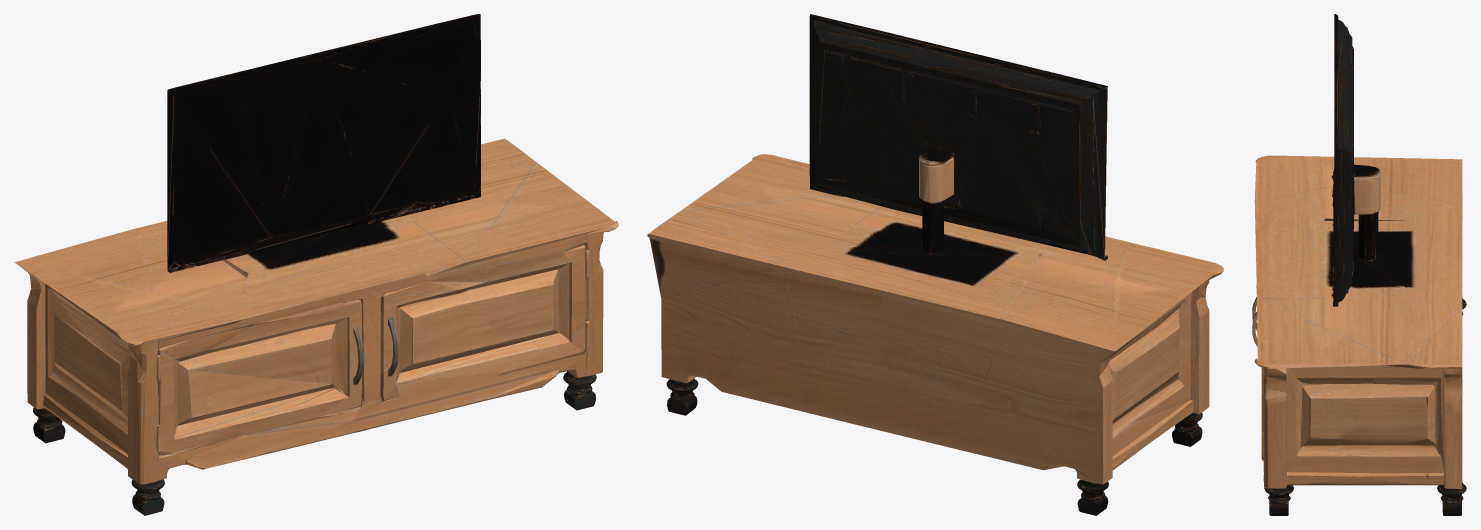
Rendered from tv_unit.glb.
The picture shows the model from 3 angles, left to right: view 1: azimuth 30°, elevation 25°; view 2: azimuth 150°, elevation 25°; view 3: azimuth 270°, elevation 25°; orthographic projection. The views are drawn at different scales.
Bounding box in the file's own units: 1.9 × 1.41 × 0.8161.
1 material, 1 textured.
